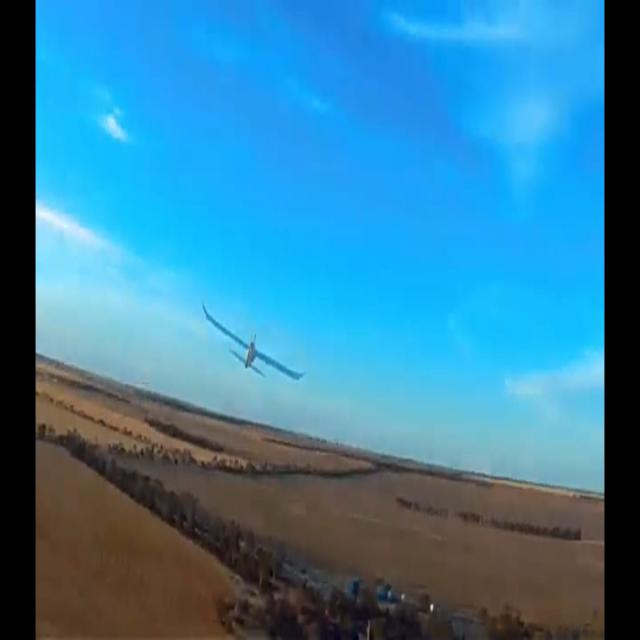iha: (234, 331, 273, 351)
